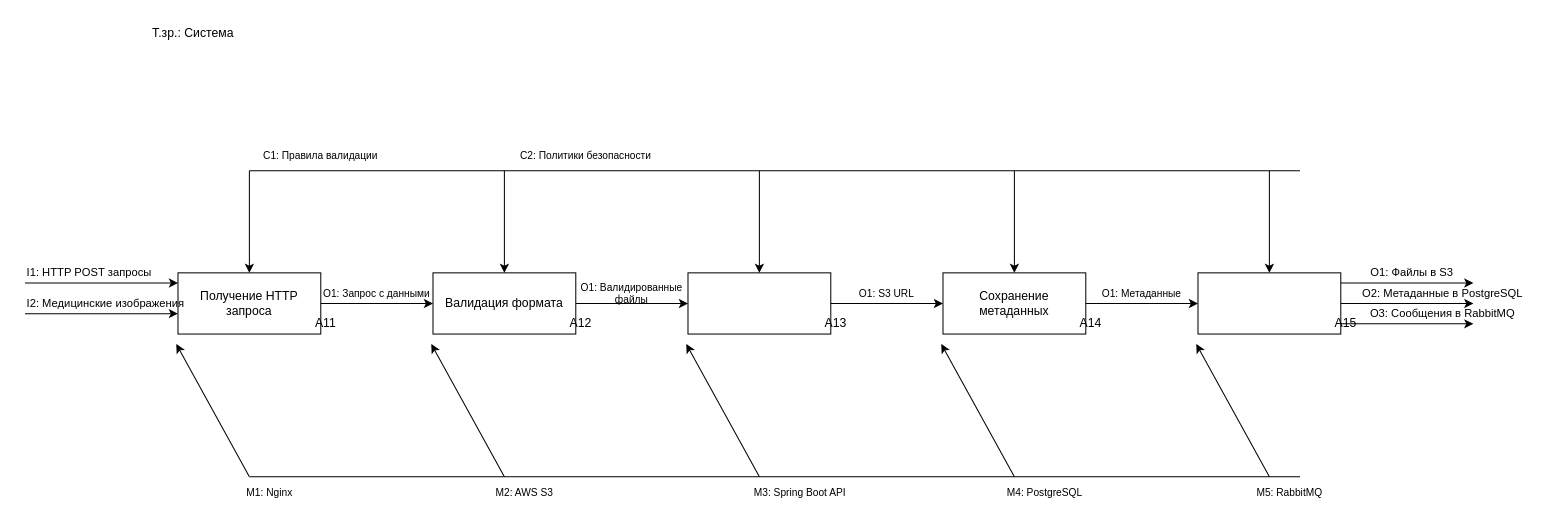
Some shapes in this 1552 by 524 pixel diagram are drawn without their labels. The shapes that lost their labels are listed below. From the top down, each one's centre as x and y in pixels, then its label:
At [759,303]: "Сохранение в S3".
At [1269,303]: "Отправка в очередь".
